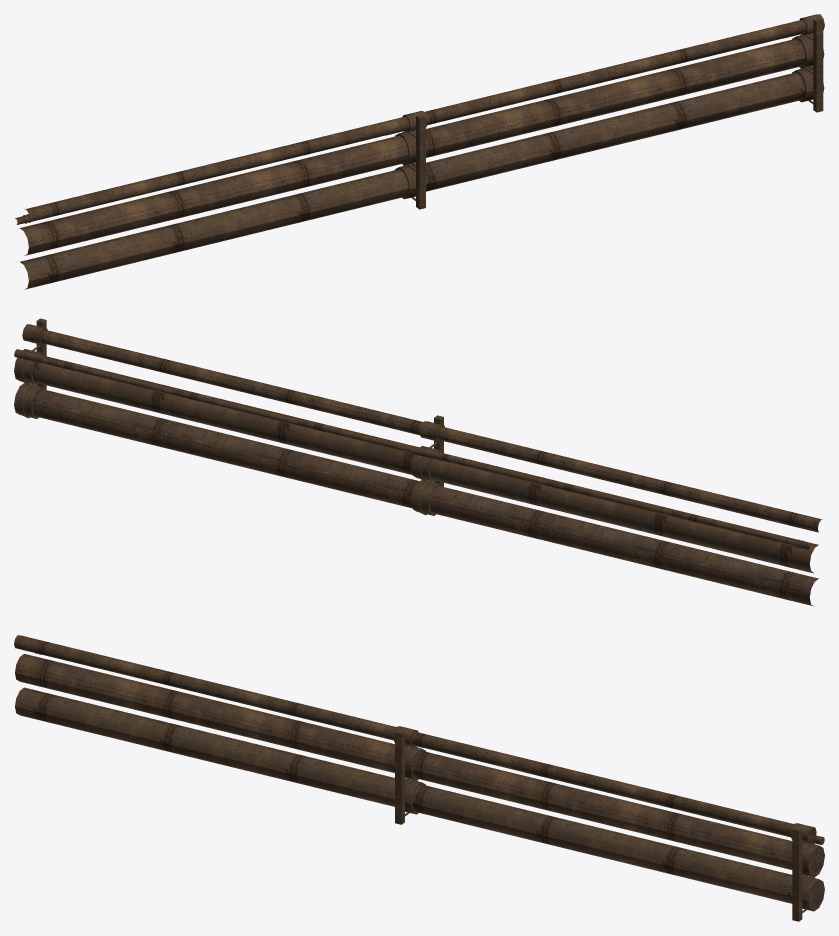
The model's file is pipeset08d_256_001a.glb.
The picture shows the model from 3 angles, top to bottom: view 1: azimuth 30°, elevation 25°; view 2: azimuth 150°, elevation 25°; view 3: azimuth 330°, elevation 25°; orthographic projection.
Visible parts, largest first — view 1: 0_pipeset_metal; view 2: 0_pipeset_metal; view 3: 0_pipeset_metal.
Part boxes in pixels (left/top/right/bottom): 0_pipeset_metal: left=15, top=14, right=824, bottom=289; 0_pipeset_metal: left=14, top=318, right=822, bottom=606; 0_pipeset_metal: left=14, top=635, right=824, bottom=921.
Size of the model in its own units: 6.5 by 0.7112 by 0.3048.
1 material, 1 textured.
